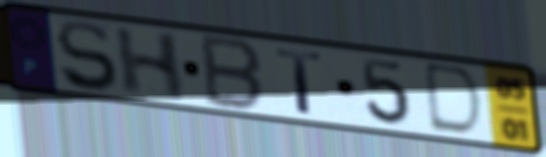5: (360, 57, 414, 127)
B: (199, 31, 266, 115)
D: (424, 60, 488, 140)
H: (112, 25, 187, 102)
S: (53, 18, 122, 94)
T: (273, 47, 327, 117)
